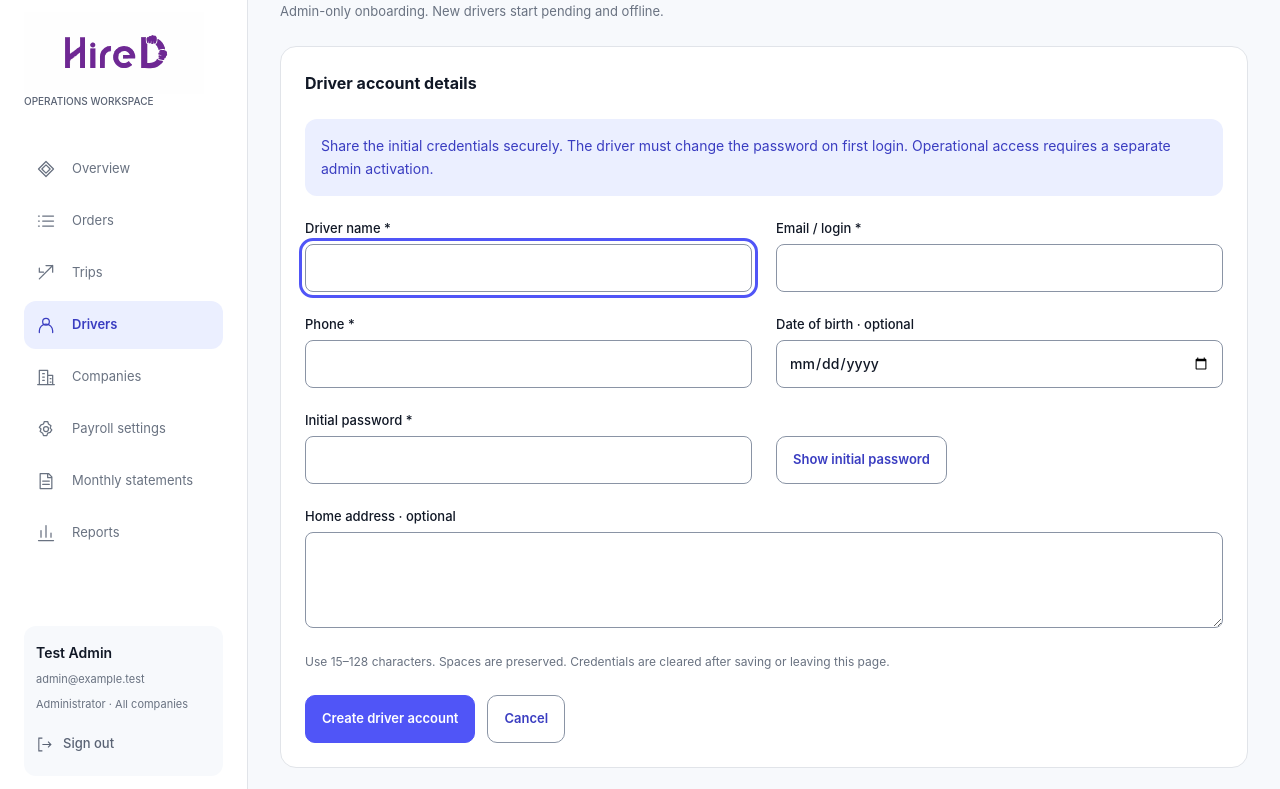
Test: focuses invalid input, creates a pending account and clears credential state
(page scrolled)
Click the button "Create driver account": [390, 719] box [305,695,476,743]
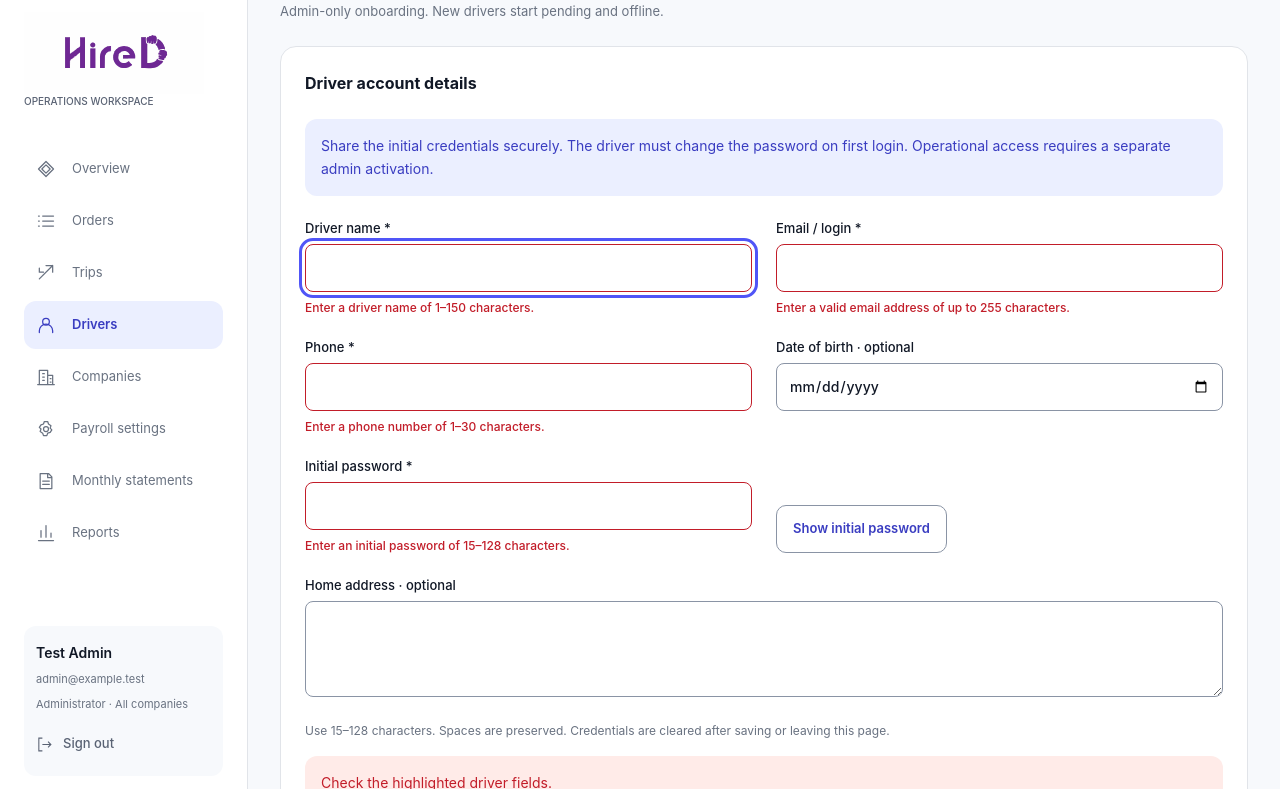
In the field labelled "Driver name *": [528, 268] box [305,244,752,292], type "Synthetic Invited Driver"
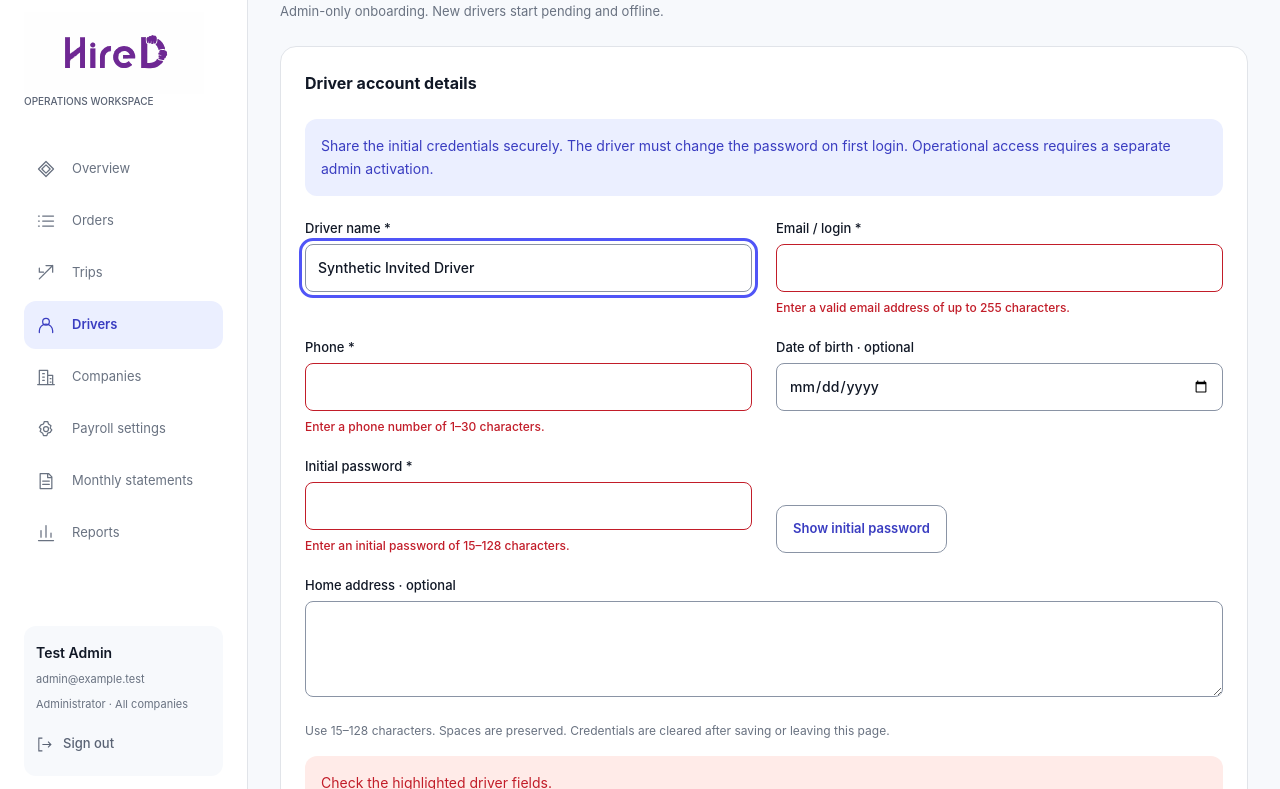
In the field labelled "Email / login *": [1000, 268] box [776,244,1223,292], type "invited@example.test"
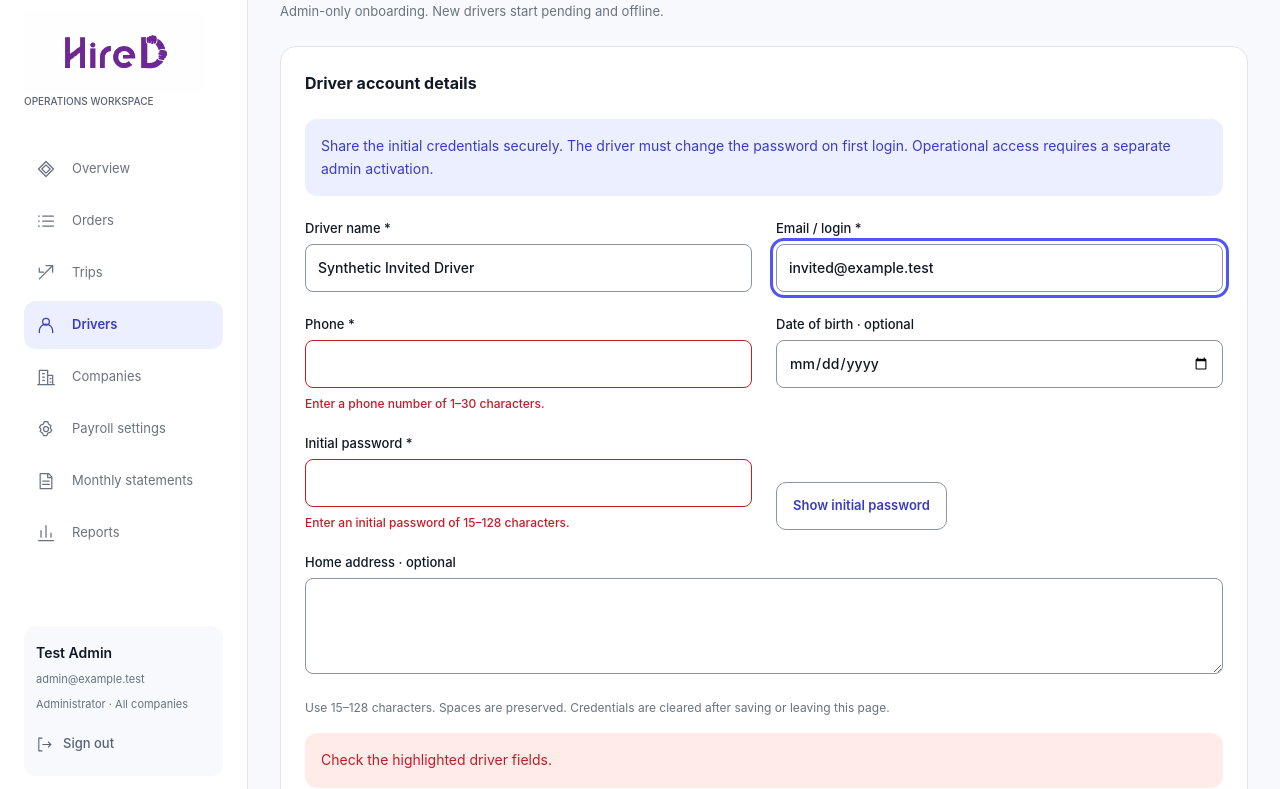
In the field labelled "Phone *": [528, 364] box [305,340,752,388], type "+919000000002"
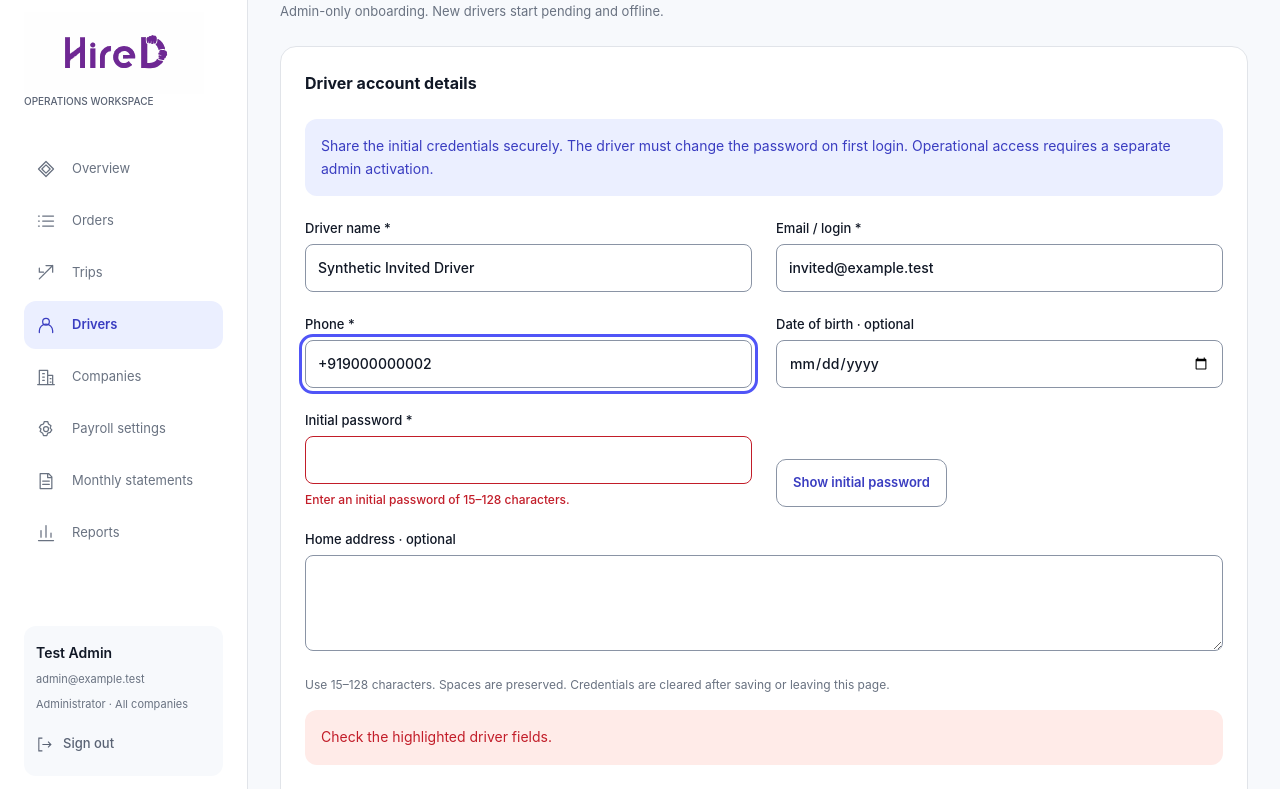
In the password field labelled "Initial password *": [528, 460] box [305,436,752,484], type "synthetic-driver-initial-password"
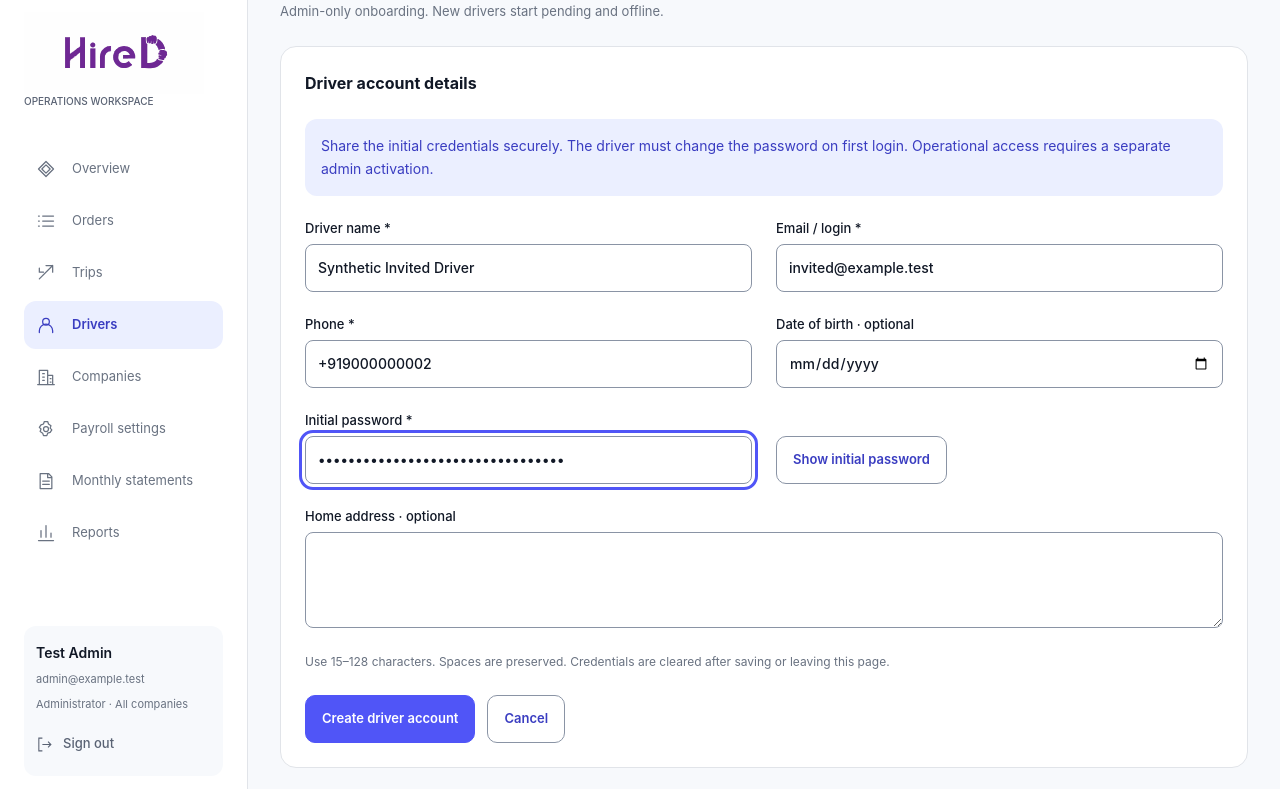
Click the button "Create driver account": [390, 719] box [305,695,476,743]
(page scrolled)
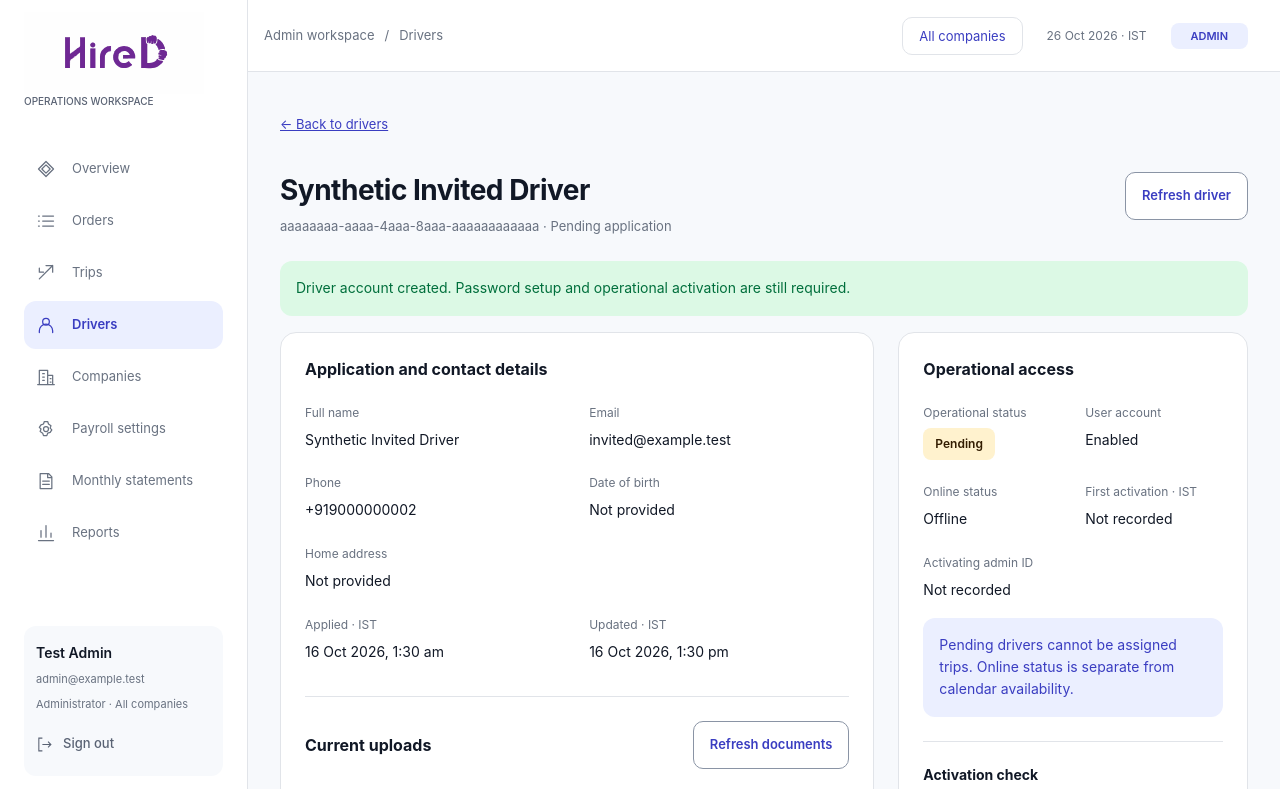
Expected: the text "Driver account created. Password setup and operational activation are still required." is shown, [296,279,850,296]
